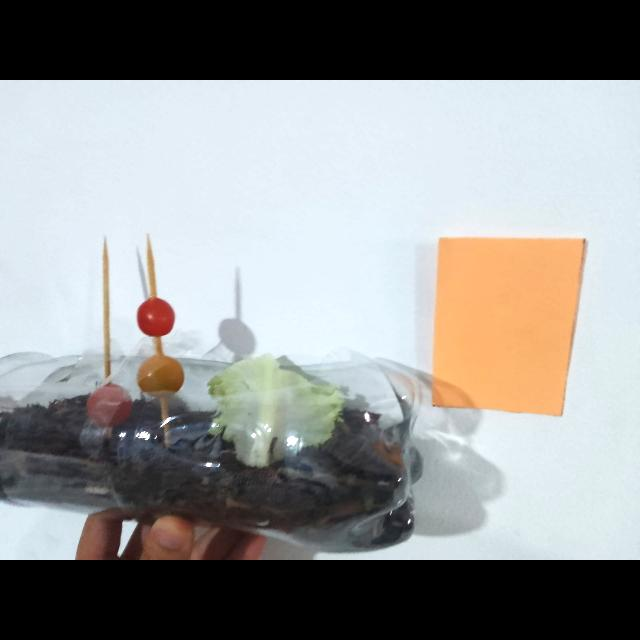card: (433, 238, 584, 415)
fruit_maturation: (86, 383, 132, 427), (137, 355, 184, 393)
fully_grown: (137, 297, 175, 337)
